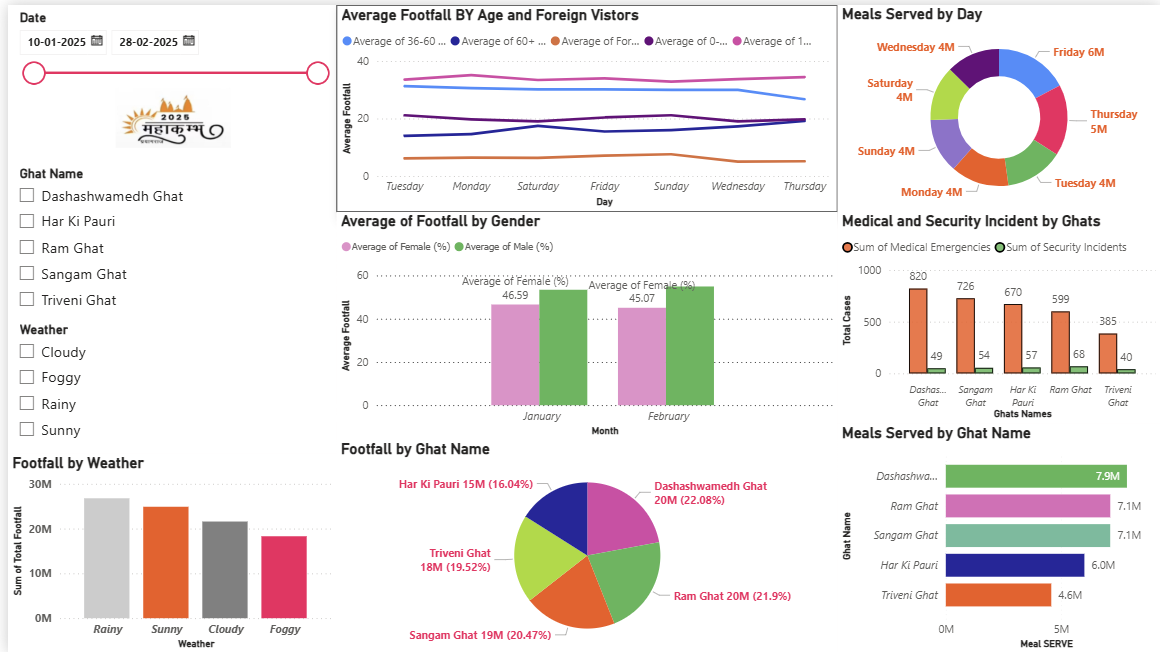

The dashboard page shown, as its layout file describes it:
{"tool":"powerbi","page":{"name":"Mahakumbhamela_Dashboard","canvas":[1280,720],"ordinal":0},"visuals":[{"type":"slicer","fields":{"Values":["Mahakambh_footfall.Date"]},"box":[0,0,365,173.3],"z":0},{"type":"slicer","fields":{"Values":["Mahakambh_footfall.Ghat Name"]},"box":[0,173.3,391.7,173.3],"z":1000},{"type":"slicer","fields":{"Values":["Mahakambh_footfall.Weather"]},"box":[0,346.7,380,151.7],"z":2000},{"type":"lineChart","title":"Average Footfall BY Age and Foreign Vistors","fields":{"Category":["Mahakambh_footfall.Day"],"Y":["Avg(Mahakambh_footfall.36-60 (%))","Avg(Mahakambh_footfall.60+ (%))","Avg(Mahakambh_footfall.Foreign Tourists (%))","Avg(Mahakambh_footfall.0-18 (%))","Avg(Mahakambh_footfall.19-35 (%))"]},"box":[365,0,556.7,230],"z":3000},{"type":"clusteredColumnChart","title":"Average of Footfall by Gender","fields":{"Category":["Mahakambh_footfall.Date.Variation.Date Hierarchy.Month"],"Y":["Avg(Mahakambh_footfall.Female (%))","Avg(Mahakambh_footfall.Male (%))"]},"box":[365,230,556.7,253.3],"z":4000},{"type":"pieChart","title":"Footfall by Ghat Name","fields":{"Category":["Mahakambh_footfall.Ghat Name"],"Y":["Sum(Mahakambh_footfall.Total Footfall)"]},"box":[365,483.3,556.7,236.7],"z":5000},{"type":"clusteredColumnChart","title":"Medical and Security Incident by Ghats","fields":{"Category":["Mahakambh_footfall.Ghat Name"],"Y":["Sum(Mahakambh_footfall.Medical Emergencies)","Sum(Mahakambh_footfall.Security Incidents)"]},"box":[921.7,230,358.3,235],"z":6000},{"type":"barChart","title":"Meals Served by Ghat Name","fields":{"Category":["Mahakambh_footfall.Ghat Name"],"Y":["Sum(Mahakambh_footfall.Meals Served)"]},"box":[921.7,465,358.3,255],"z":7000},{"type":"columnChart","title":"Footfall by Weather","fields":{"Category":["Mahakambh_footfall.Weather"],"Y":["Sum(Mahakambh_footfall.Total Footfall)"]},"box":[0,498.3,365,221.7],"z":8000},{"type":"donutChart","title":"Meals Served by Day","fields":{"Y":["Sum(Mahakambh_footfall.Meals Served)"],"Category":["Mahakambh_footfall.Day"]},"box":[921.7,0,358.3,230],"z":9000},{"type":"image","box":[71.7,86.7,223.3,76.7],"z":10000}]}

Visuals, with their boxes in screenshot pixels (x1, y1, x2, y2), scaled from the page's 1280x720 canvas onto the 1160x652 screenshot:
slicer - Mahakambh_footfall.Date: <bbox>0, 0, 331, 157</bbox>
slicer - Mahakambh_footfall.Ghat Name: <bbox>0, 157, 355, 314</bbox>
slicer - Mahakambh_footfall.Weather: <bbox>0, 314, 344, 451</bbox>
"Average Footfall BY Age and Foreign Vistors" lineChart: <bbox>331, 0, 835, 208</bbox>
"Average of Footfall by Gender" clusteredColumnChart: <bbox>331, 208, 835, 438</bbox>
"Footfall by Ghat Name" pieChart: <bbox>331, 438, 835, 651</bbox>
"Medical and Security Incident by Ghats" clusteredColumnChart: <bbox>835, 208, 1159, 421</bbox>
"Meals Served by Ghat Name" barChart: <bbox>835, 421, 1159, 651</bbox>
"Footfall by Weather" columnChart: <bbox>0, 451, 331, 651</bbox>
"Meals Served by Day" donutChart: <bbox>835, 0, 1159, 208</bbox>
image: <bbox>65, 79, 267, 148</bbox>
